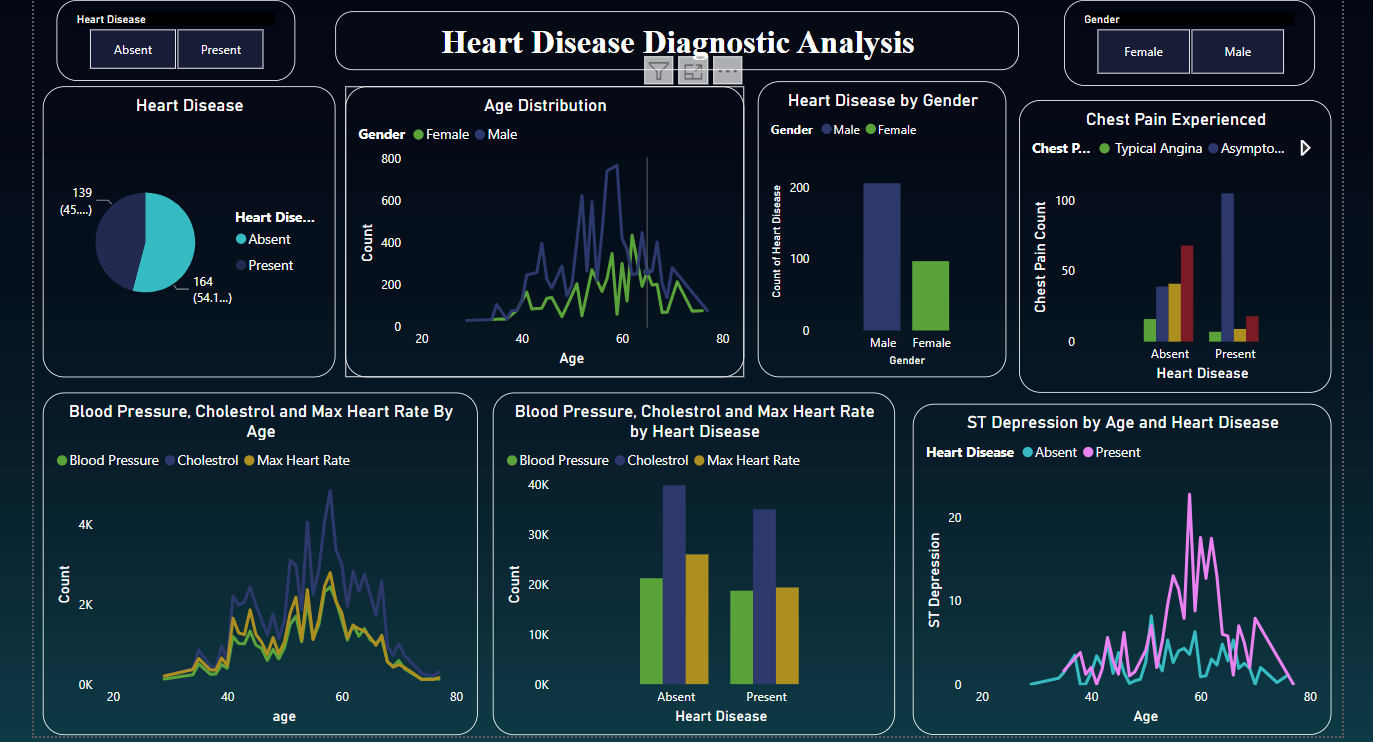

The dashboard page shown, as its layout file describes it:
{"tool":"powerbi","page":{"name":"Dashboard","canvas":[1280,720],"ordinal":0},"visuals":[{"type":"columnChart","title":"Heart Disease by Gender","fields":{"Category":["heart_disease_dataset.Gender"],"Y":["CountNonNull(heart_disease_dataset.Heart Disease)"],"Series":["heart_disease_dataset.Gender"]},"box":[708,79.5,243.3,289.8],"z":0},{"type":"pieChart","title":"Heart Disease","fields":{"Y":["CountNonNull(heart_disease_dataset.Heart Disease)"],"Category":["heart_disease_dataset.Heart Disease"]},"box":[8.6,84.4,286.1,284.9],"z":1000},{"type":"lineChart","title":"Age Distribution","fields":{"Category":["heart_disease_dataset.age"],"Y":["Sum(heart_disease_dataset.age)"],"Series":["heart_disease_dataset.Gender"]},"box":[304.5,84.4,390.1,284.9],"z":2000},{"type":"clusteredColumnChart","title":"Chest Pain Experienced","fields":{"Category":["heart_disease_dataset.Heart Disease"],"Y":["CountNonNull(heart_disease_dataset.chest pain)"],"Series":["heart_disease_dataset.chest pain"]},"box":[963.6,97.8,305.7,286.1],"z":3000},{"type":"lineChart","title":"Blood Pressure, Cholestrol and Max Heart Rate By Age","fields":{"Y":["Sum(heart_disease_dataset.Blood Pressure)","Sum(heart_disease_dataset.chol)","Sum(heart_disease_dataset.thalach)"],"Category":["heart_disease_dataset.age"]},"box":[8.6,384,425.5,335.1],"z":4000},{"type":"clusteredColumnChart","title":"Blood Pressure, Cholestrol and Max Heart Rate by Heart Disease","fields":{"Category":["heart_disease_dataset.Heart Disease"],"Y":["Sum(heart_disease_dataset.trestbps)","Sum(heart_disease_dataset.chol)","Sum(heart_disease_dataset.thalach)"]},"box":[448.8,384,393.8,335.1],"z":5000},{"type":"lineChart","title":"ST Depression by Age and Heart Disease","fields":{"Category":["heart_disease_dataset.age"],"Series":["heart_disease_dataset.Heart Disease"],"Y":["Sum(heart_disease_dataset.oldpeak)"]},"box":[859.7,395,409.6,324.1],"z":6000},{"type":"slicer","fields":{"Values":["heart_disease_dataset.Gender"]},"box":[1007.6,0,245.8,84.4],"z":7000},{"type":"slicer","fields":{"Values":["heart_disease_dataset.Heart Disease"]},"box":[22,0,233.6,79.5],"z":8000},{"type":"textbox","box":[294.9,10.7,668.7,57.3],"z":9000}]}

Visuals, with their boxes in screenshot pixels (x1, y1, x2, y2):
"Heart Disease by Gender" columnChart: rect(753, 81, 1001, 376)
"Heart Disease" pieChart: rect(41, 86, 332, 376)
"Age Distribution" lineChart: rect(342, 86, 740, 376)
"Chest Pain Experienced" clusteredColumnChart: rect(1014, 100, 1325, 391)
"Blood Pressure, Cholestrol and Max Heart Rate By Age" lineChart: rect(41, 391, 474, 733)
"Blood Pressure, Cholestrol and Max Heart Rate by Heart Disease" clusteredColumnChart: rect(489, 391, 890, 733)
"ST Depression by Age and Heart Disease" lineChart: rect(908, 402, 1325, 733)
slicer - heart_disease_dataset.Gender: rect(1059, 0, 1309, 86)
slicer - heart_disease_dataset.Heart Disease: rect(55, 0, 293, 81)
textbox: rect(333, 11, 1014, 69)
